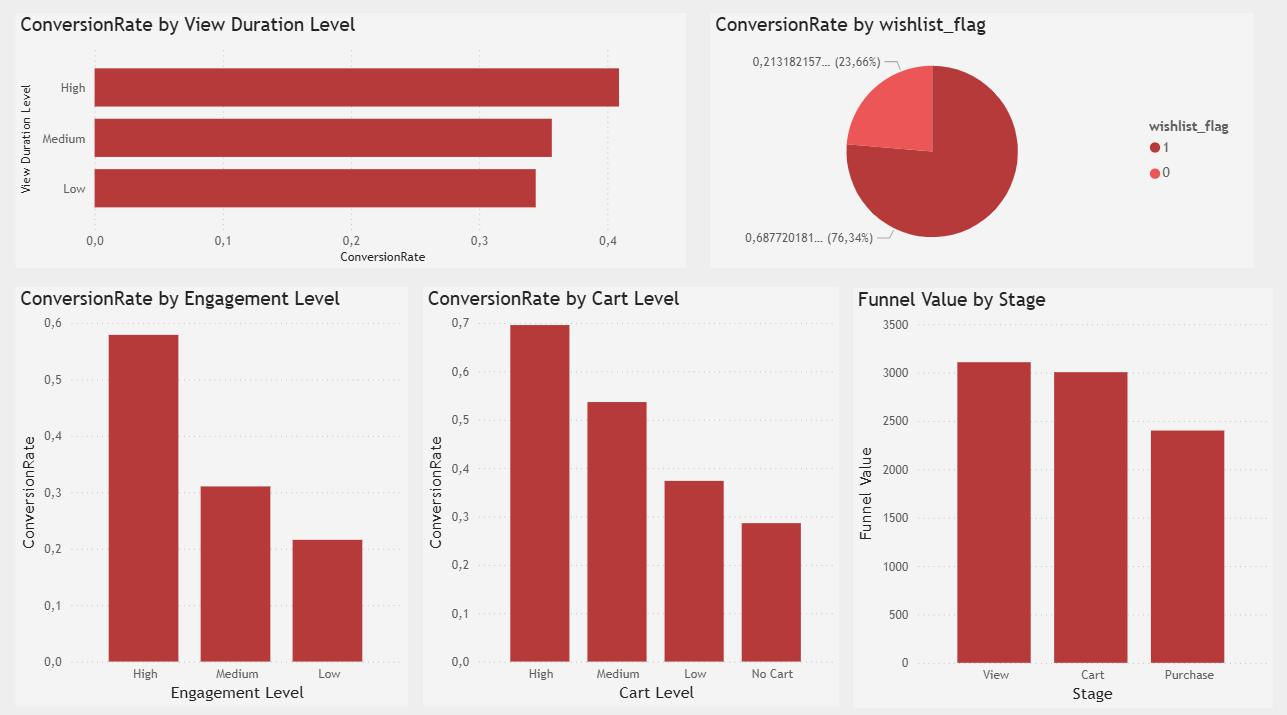

Layout of this report page (visuals, bound fields, positions):
{"tool":"powerbi","page":{"name":"Engagement Analysis","canvas":[1280,720],"ordinal":2},"visuals":[{"type":"clusteredColumnChart","fields":{"Y":["E-COMMERCE DATA.ConversionRate"],"Category":["E-COMMERCE DATA.Cart Level"]},"box":[425.4,286.8,407.5,410.3],"z":0},{"type":"clusteredColumnChart","fields":{"Category":["E-COMMERCE DATA.Engagement Level"],"Y":["E-COMMERCE DATA.ConversionRate"]},"box":[27.4,286.8,384.2,410.3],"z":1000},{"type":"clusteredBarChart","fields":{"Y":["E-COMMERCE DATA.ConversionRate"],"Category":["E-COMMERCE DATA.View Duration Level"]},"box":[27.4,19.2,655.9,249.7],"z":2000},{"type":"clusteredColumnChart","fields":{"Category":["Stage.Stage"],"Y":["E-COMMERCE DATA.Funnel Value"]},"box":[846.7,288.2,410.3,410.3],"z":3000},{"type":"pieChart","fields":{"Category":["E-COMMERCE DATA.wishlist_flag"],"Y":["E-COMMERCE DATA.ConversionRate"]},"box":[706.7,19.2,531,249.7],"z":4000}]}

Visuals, with their boxes in screenshot pixels (x1, y1, x2, y2), scaled from the page's 1280x720 canvas onto the 1287x715 screenshot:
clusteredColumnChart - E-COMMERCE DATA.ConversionRate x E-COMMERCE DATA.Cart Level: BBox(428, 285, 837, 692)
clusteredColumnChart - E-COMMERCE DATA.Engagement Level x E-COMMERCE DATA.ConversionRate: BBox(28, 285, 414, 692)
clusteredBarChart - E-COMMERCE DATA.ConversionRate x E-COMMERCE DATA.View Duration Level: BBox(28, 19, 687, 267)
clusteredColumnChart - Stage.Stage x E-COMMERCE DATA.Funnel Value: BBox(851, 286, 1264, 694)
pieChart - E-COMMERCE DATA.wishlist_flag x E-COMMERCE DATA.ConversionRate: BBox(711, 19, 1244, 267)
